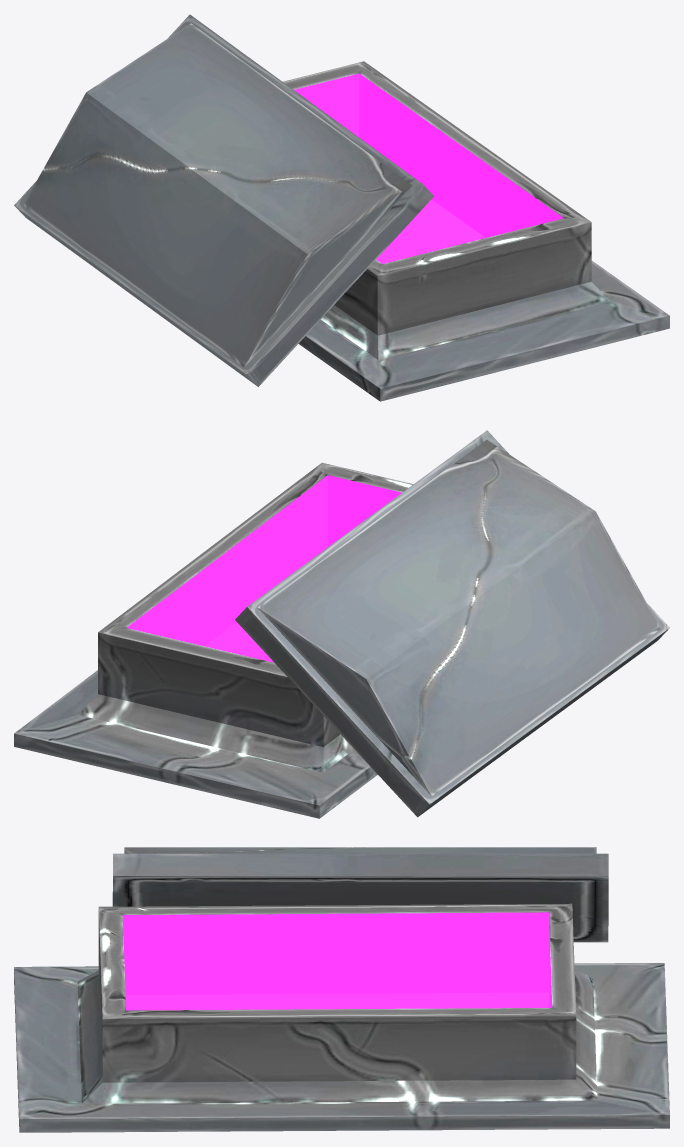
The model's file is grave_portal.glb.
The picture shows the model from 3 angles, top to bottom: view 1: azimuth 30°, elevation 25°; view 2: azimuth 150°, elevation 25°; view 3: azimuth 270°, elevation 25°; orthographic projection. The views are drawn at different scales.
Visible parts, largest first — view 1: HWN20_Grave_05; view 2: HWN20_Grave_05; view 3: HWN20_Grave_05.
Boxes of the visible parts, left/top/right/bottom form: HWN20_Grave_05: left=14, top=14, right=669, bottom=401; HWN20_Grave_05: left=14, top=430, right=669, bottom=818; HWN20_Grave_05: left=14, top=847, right=669, bottom=1132.
Size of what is drawn, in the model's own units: 1.52 by 0.6249 by 2.13.
2 materials, 1 textured.
